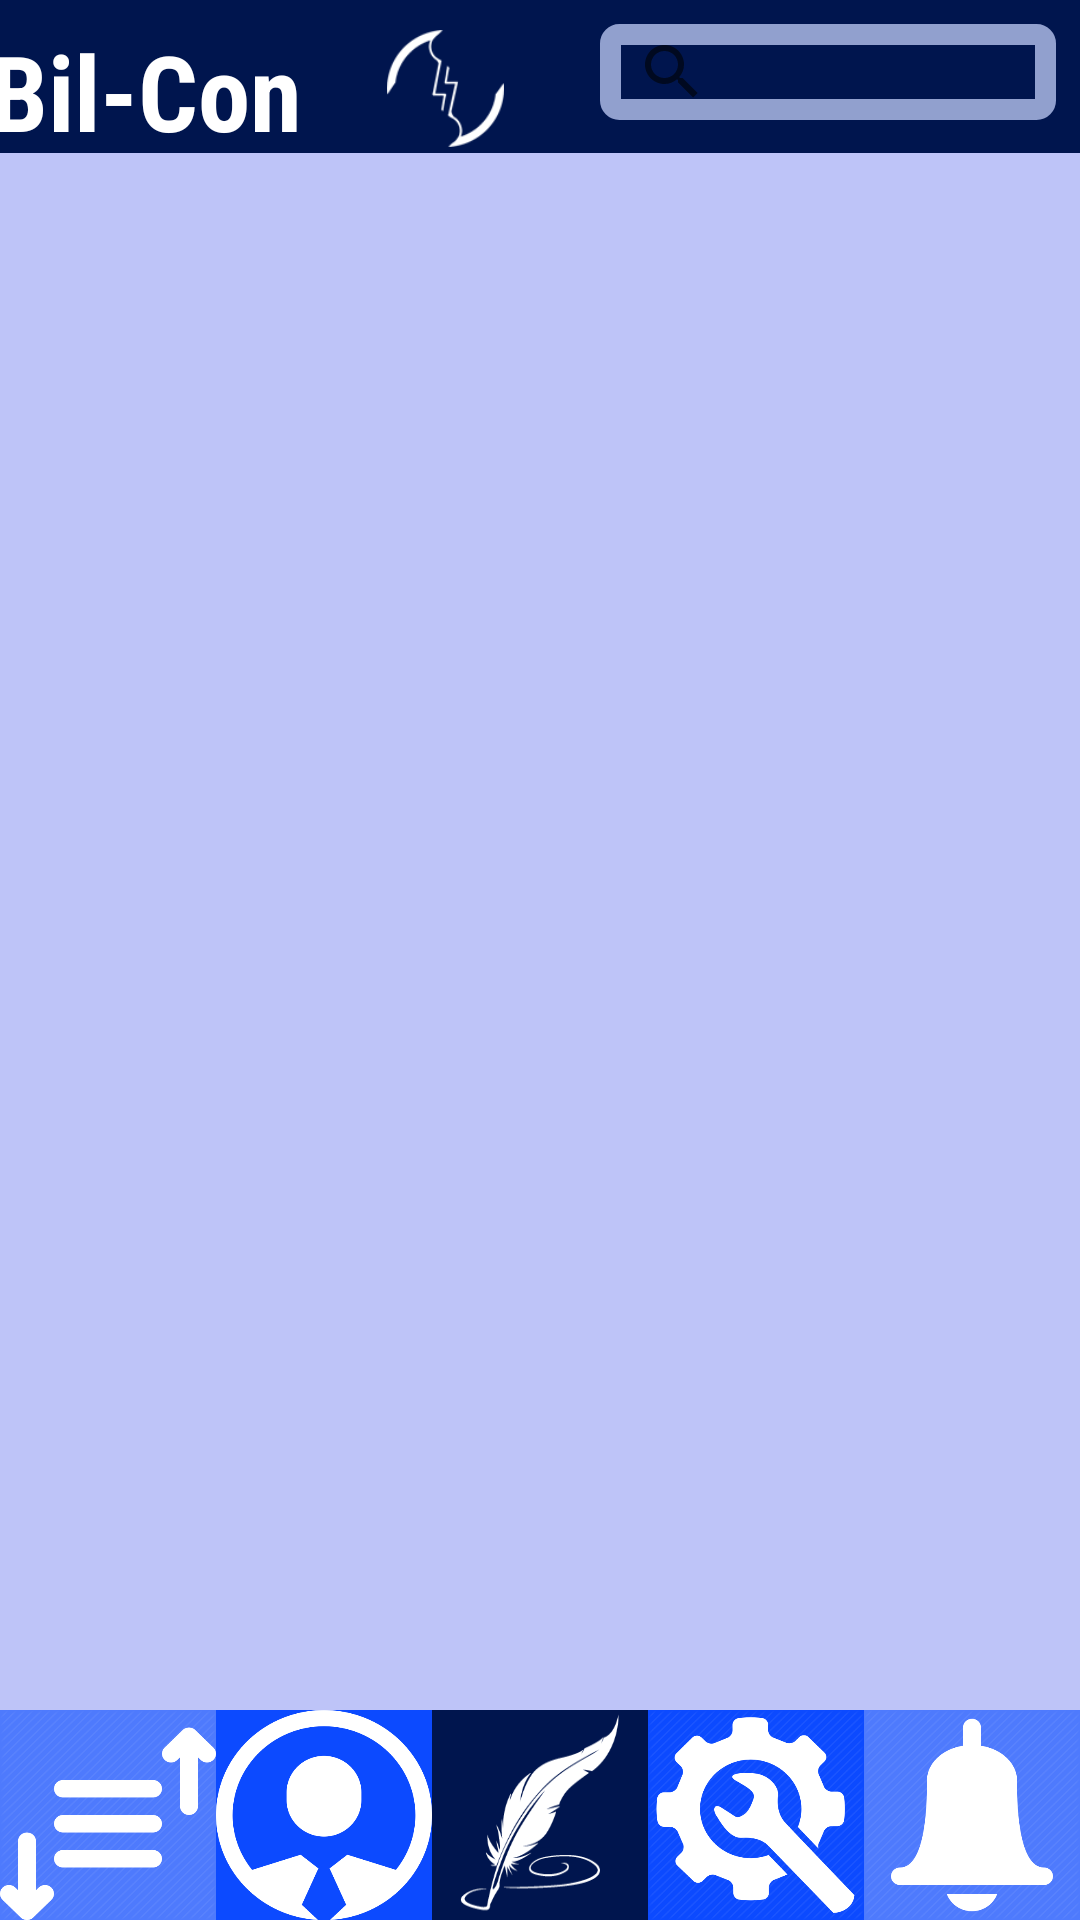

Named icons in this screenshot (1080 × 1920) and their centers, point (x, y):
bell: point (972, 1815)
editing pen: point (540, 1815)
order: point (108, 1815)
profile: point (324, 1815)
settings: point (756, 1815)
